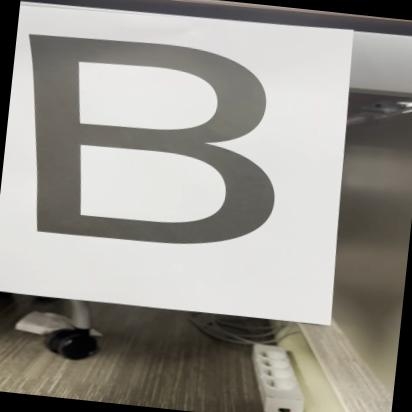seat: (0, 20, 318, 269)
